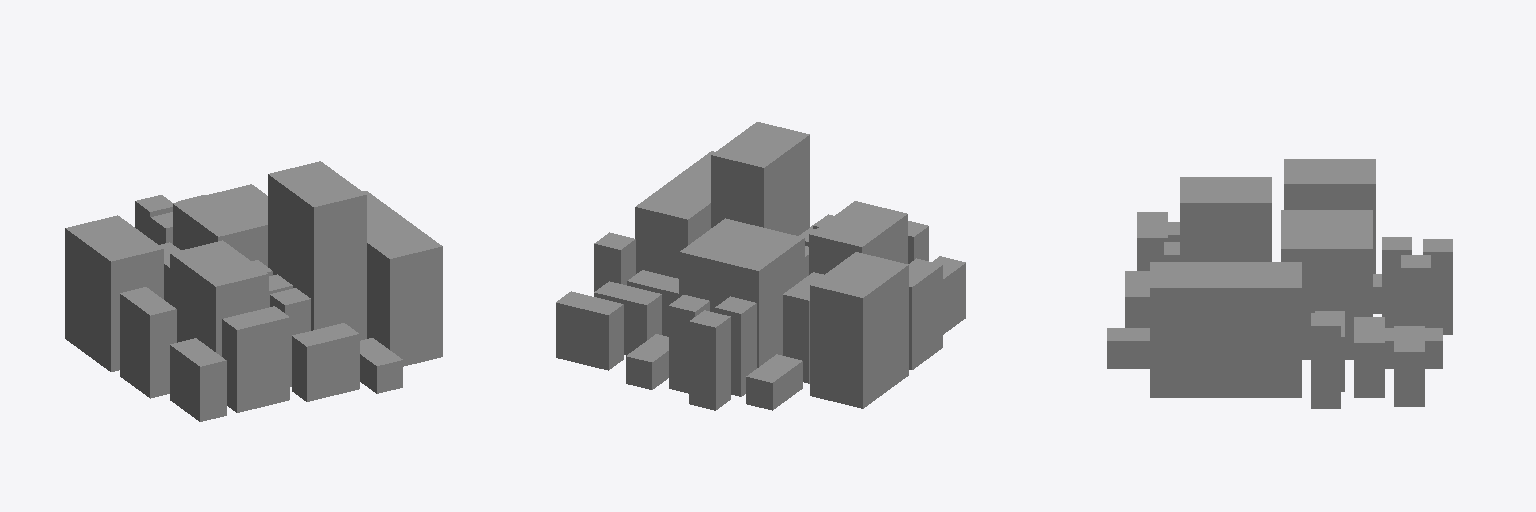
The model's file is immeubles.obj.
3 views of the same model, side by side, from view 1: azimuth 30°, elevation 25°; view 2: azimuth 150°, elevation 25°; view 3: azimuth 270°, elevation 25° (orthographic).
Parts seen in each view (by area): view 1: Cube.001_Cube.002, Cube.003_Cube.004, Cube.004_Cube.005, Cube_Cube.001, Cube.010_Cube.011, Cube.002_Cube.003, Cube.006_Cube.007, Cube.009_Cube.010, Cube.008_Cube.009, Cube.011_Cube.012, Cube.019_Cube.020, Cube.023_Cube.024 (+1 smaller); view 2: Cube.004_Cube.005, Cube.002_Cube.003, Cube.001_Cube.002, Cube.003_Cube.004, Cube_Cube.001, Cube.015_Cube.016, Cube.023_Cube.024, Cube.006_Cube.007, Cube.014_Cube.015, Cube.020_Cube.021, Cube.012_Cube.013, Cube.007_Cube.008 (+6 smaller); view 3: Cube.003_Cube.004, Cube.002_Cube.003, Cube.001_Cube.002, Cube.004_Cube.005, Cube.016_Cube.017, Cube.015_Cube.016, Cube.014_Cube.015, Cube.023_Cube.024, Cube.022_Cube.023, Cube.020_Cube.021, Cube.011_Cube.012, Cube.010_Cube.011 (+2 smaller).
Part boxes in pixels (x1,y1,x2,y2): Cube.001_Cube.002: (268, 161, 366, 340); Cube.003_Cube.004: (362, 191, 442, 366); Cube.004_Cube.005: (65, 215, 163, 371); Cube_Cube.001: (170, 240, 268, 356); Cube.010_Cube.011: (222, 306, 289, 412); Cube.002_Cube.003: (173, 184, 267, 266); Cube.006_Cube.007: (120, 287, 176, 398); Cube.009_Cube.010: (292, 323, 359, 401); Cube.008_Cube.009: (170, 338, 226, 421); Cube.011_Cube.012: (360, 338, 402, 393); Cube.019_Cube.020: (270, 288, 310, 386); Cube.023_Cube.024: (135, 195, 172, 237); Cube.004_Cube.005: (810, 252, 908, 408); Cube.002_Cube.003: (679, 218, 804, 367); Cube.001_Cube.002: (711, 122, 809, 235); Cube.003_Cube.004: (635, 151, 714, 278); Cube_Cube.001: (809, 201, 907, 274); Cube.015_Cube.016: (556, 291, 623, 370); Cube.023_Cube.024: (689, 310, 730, 410); Cube.006_Cube.007: (908, 258, 942, 369); Cube.014_Cube.015: (594, 281, 661, 355); Cube.020_Cube.021: (715, 296, 756, 396); Cube.012_Cube.013: (746, 354, 802, 410); Cube.007_Cube.008: (783, 272, 823, 383); Cube.003_Cube.004: (1150, 262, 1301, 397); Cube.002_Cube.003: (1281, 210, 1372, 359); Cube.001_Cube.002: (1180, 177, 1271, 261); Cube.004_Cube.005: (1284, 159, 1375, 273); Cube.016_Cube.017: (1311, 313, 1340, 408); Cube.015_Cube.016: (1394, 326, 1424, 406); Cube.014_Cube.015: (1354, 317, 1384, 397); Cube.023_Cube.024: (1423, 239, 1452, 334); Cube.022_Cube.023: (1401, 255, 1430, 327); Cube.020_Cube.021: (1382, 237, 1411, 327); Cube.011_Cube.012: (1107, 328, 1149, 368); Cube.010_Cube.011: (1137, 212, 1167, 270).
Bounding box in the file's own units: 10.81 × 6 × 11.34.